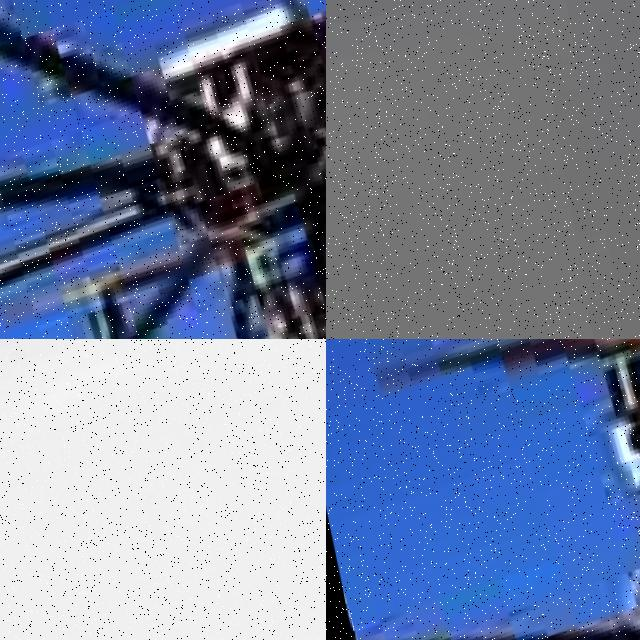drone: (0, 0, 326, 339), (0, 339, 326, 640), (326, 339, 640, 640)
